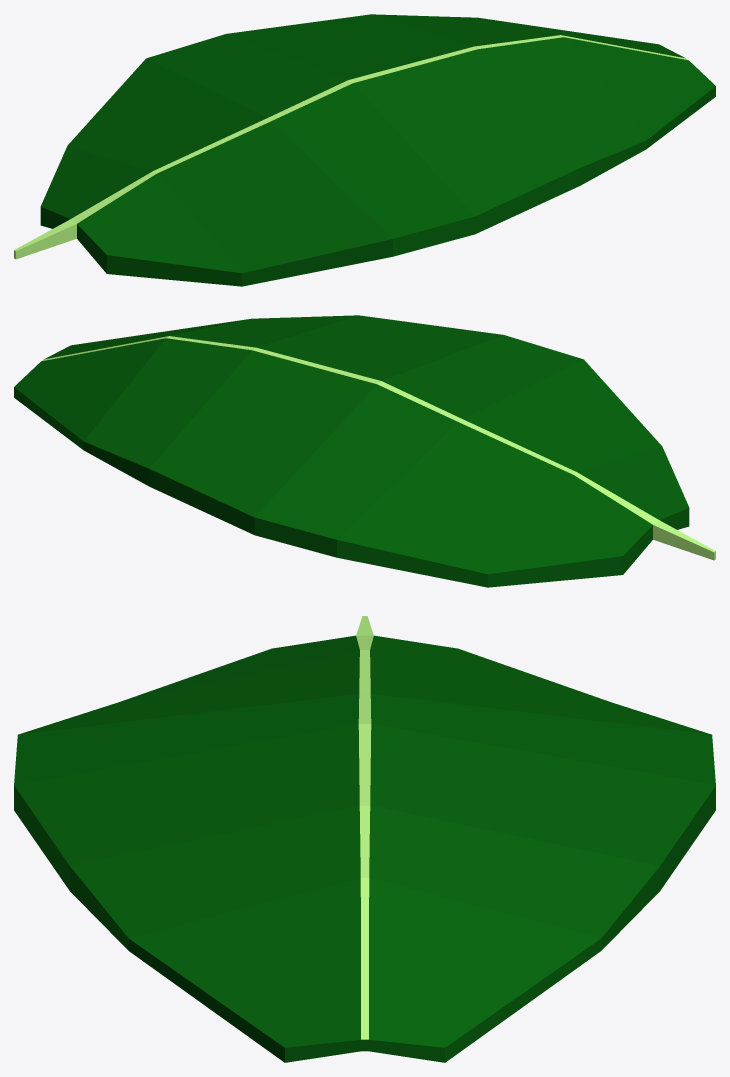
The model's file is basil01.gltf.
The picture shows the model from 3 angles, top to bottom: view 1: azimuth 30°, elevation 25°; view 2: azimuth 150°, elevation 25°; view 3: azimuth 270°, elevation 25°; orthographic projection. The views are drawn at different scales.
Visible parts, largest first — view 1: Cylinder.001; view 2: Cylinder.001; view 3: Cylinder.001.
Boxes of the visible parts, bbox=[...] form: Cylinder.001: bbox=[14, 14, 715, 286]; Cylinder.001: bbox=[14, 315, 715, 587]; Cylinder.001: bbox=[14, 616, 715, 1062].
Size of the model in its own units: 0.0745 by 0.011 by 0.0479.
1 material, 1 textured.
